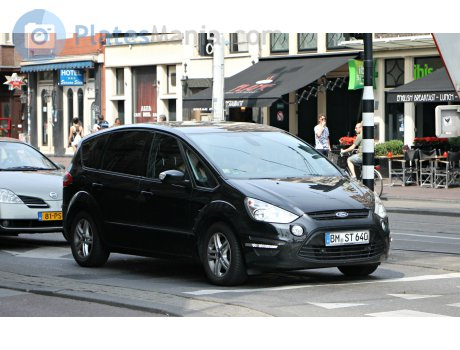License Plates: (331, 233, 363, 241)
